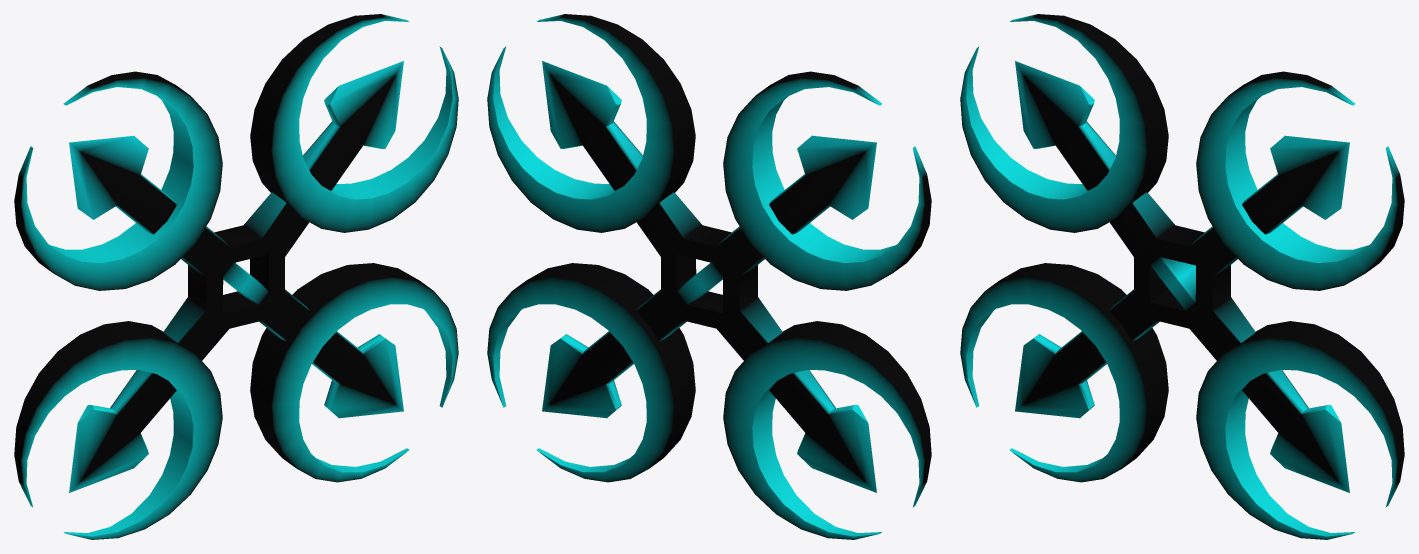
The model's file is Symbolics01.FBX.
The picture shows the model from 3 angles, left to right: view 1: azimuth 30°, elevation 25°; view 2: azimuth 150°, elevation 25°; view 3: azimuth 330°, elevation 25°; orthographic projection.
Parts seen in each view (by area): view 1: Symbolics01; view 2: Symbolics01; view 3: Symbolics01.
Boxes of the visible parts, x1=… form: Symbolics01: x1=14, y1=14, x2=458, y2=539; Symbolics01: x1=487, y1=14, x2=931, y2=539; Symbolics01: x1=960, y1=14, x2=1404, y2=539.
Bounding box in the file's own units: 27 × 27 × 2.6.
